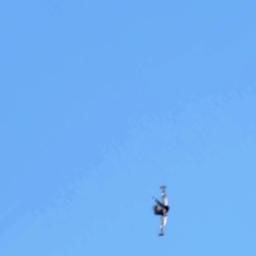Airplane: (153, 185, 172, 238)
